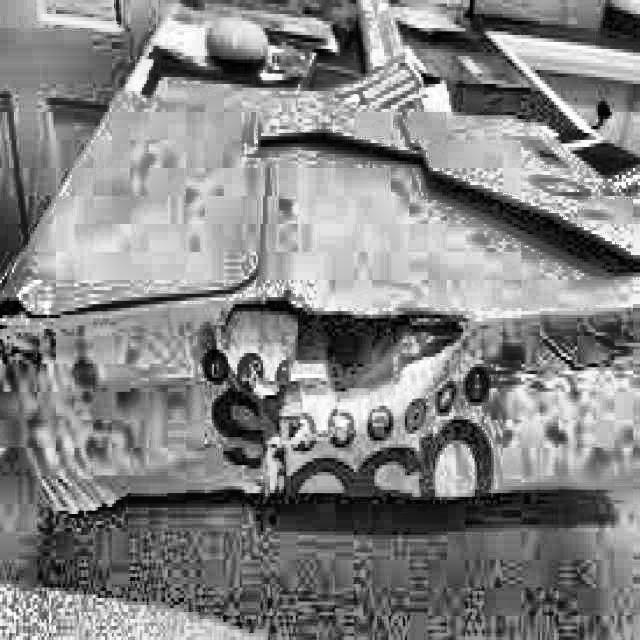box: (20, 81, 640, 518)
hole: (231, 275, 477, 440)
